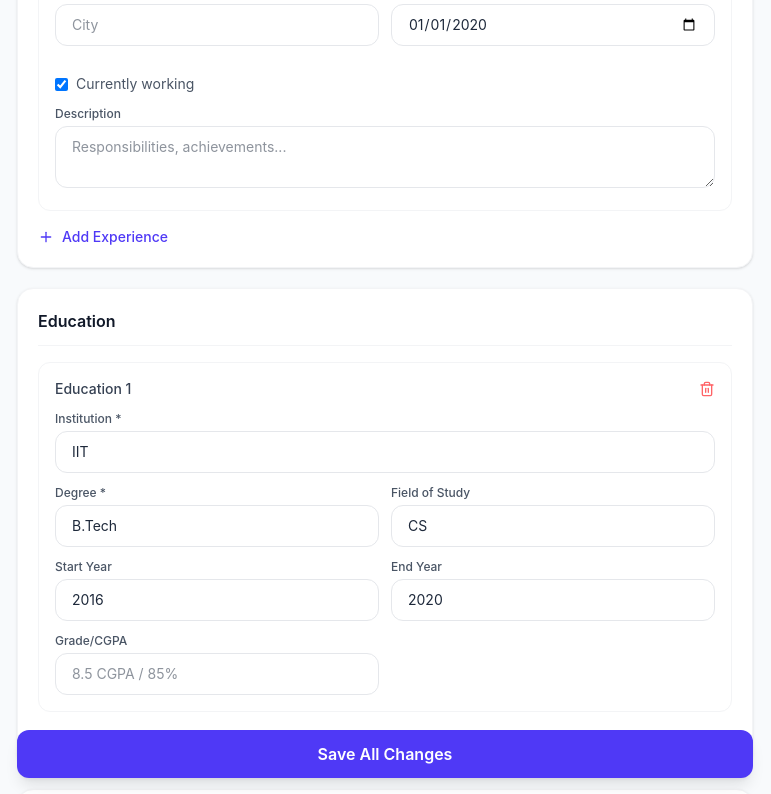
Test case: EditProfile — Education › removes education entry when remove button clicked
(page scrolled)
Expected: the text "Education 1" is shown, [55, 379, 131, 399]
Note: The MSW profile loads one education entry already
What coordinates should you click on to do the following:
click the 2nd button
I would click on:
 (707, 389)
Its box is [699, 379, 715, 399].
(page scrolled)
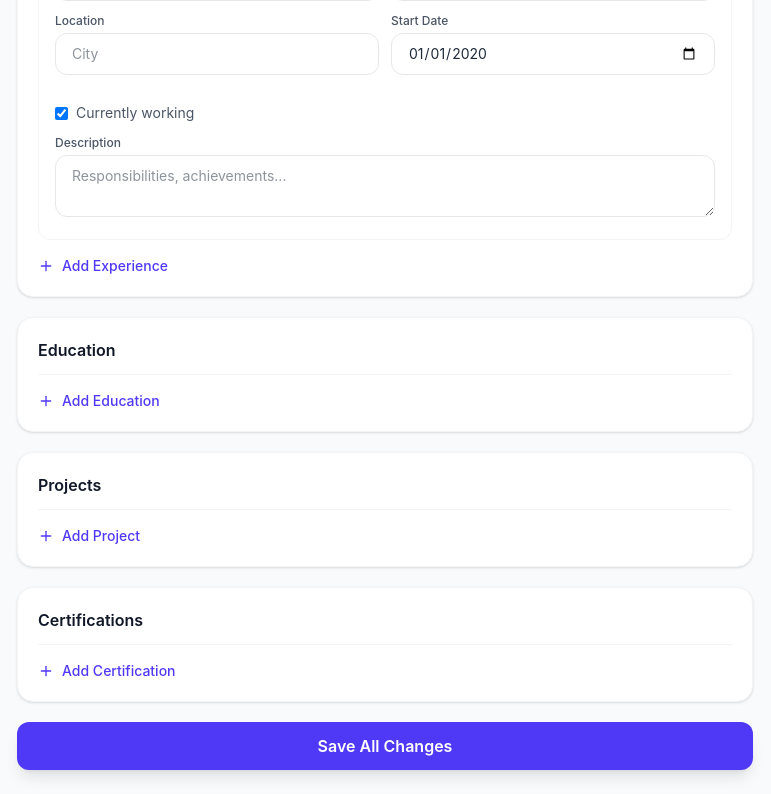
Expected: the text "Education 1" is gone
